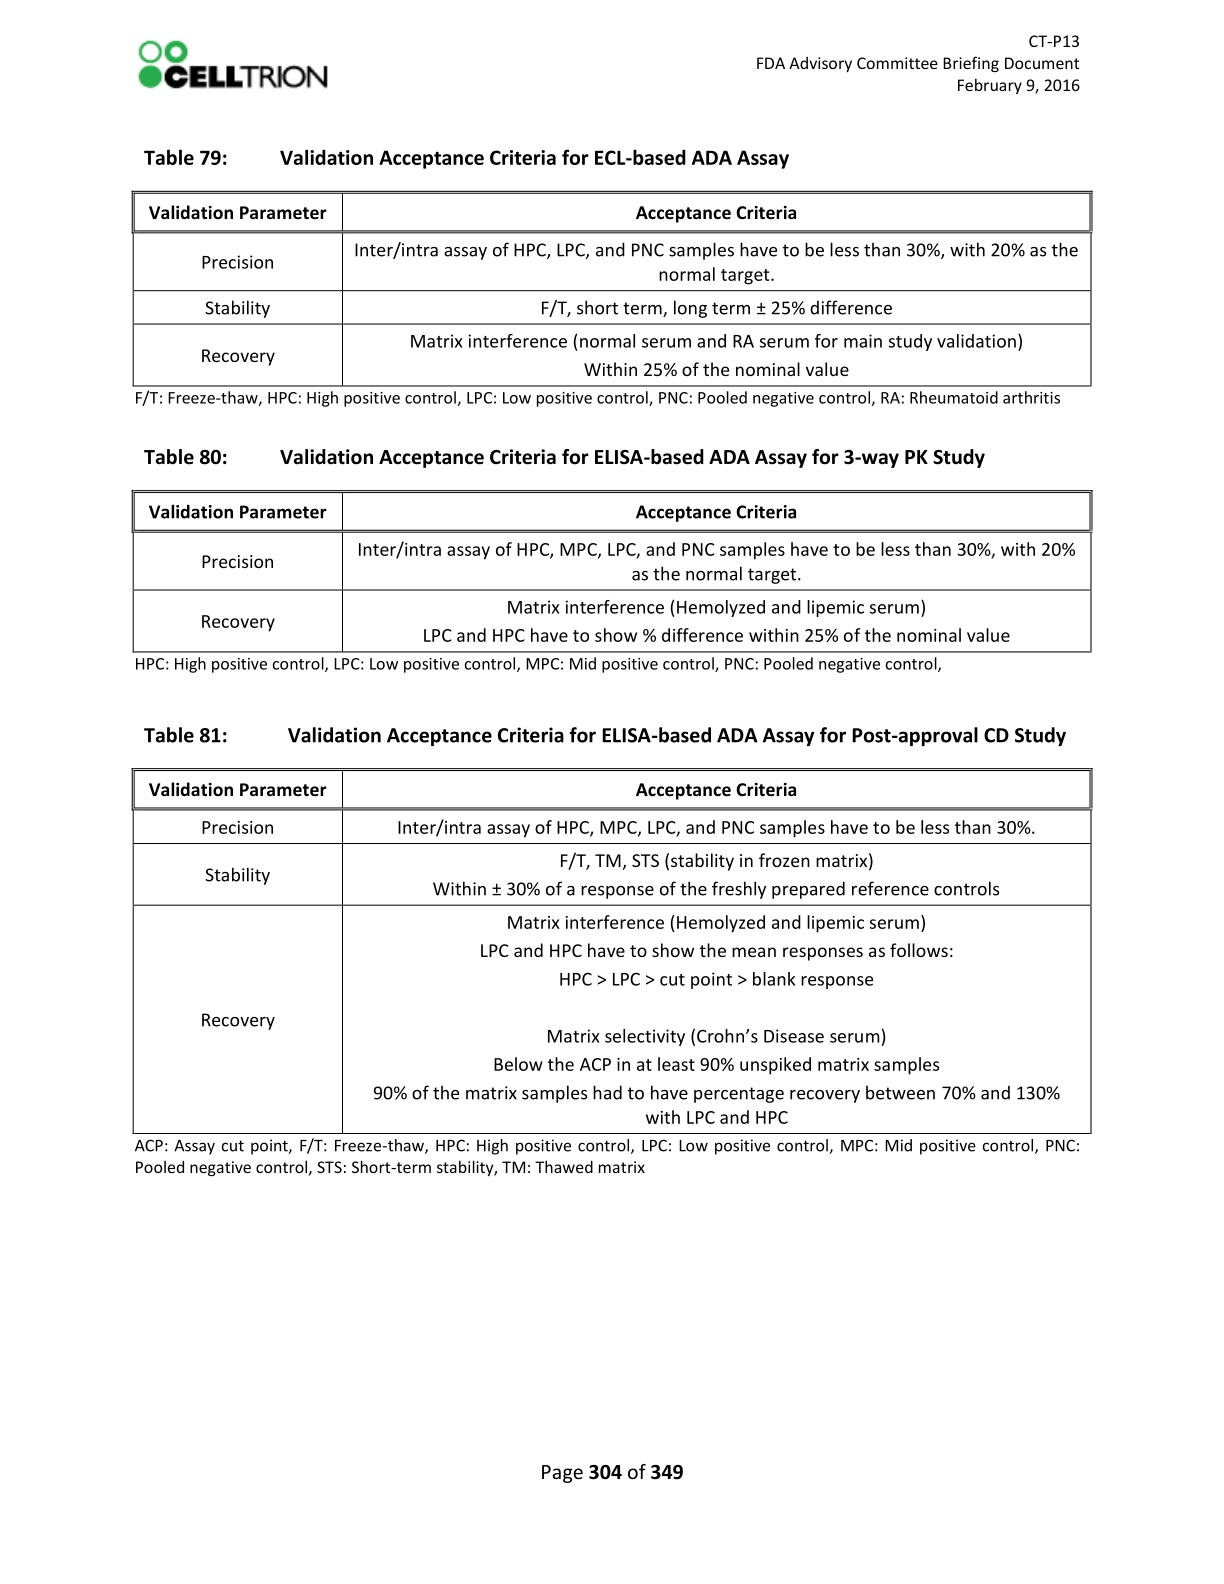full_lined: (131, 768, 1094, 1135), (131, 190, 1093, 387), (130, 490, 1092, 653)
